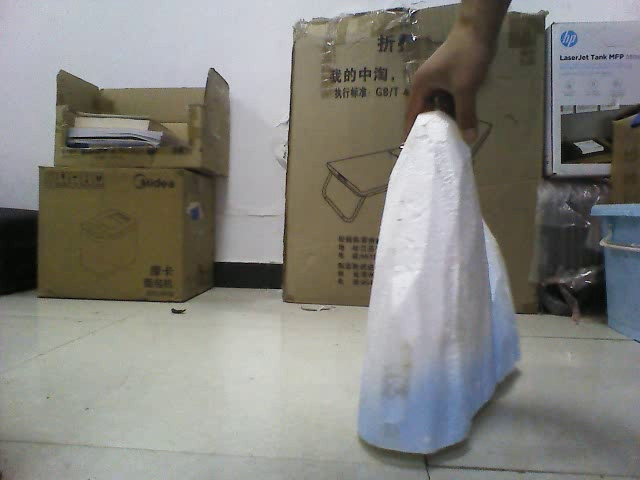iceberg: (355, 108, 526, 456)
